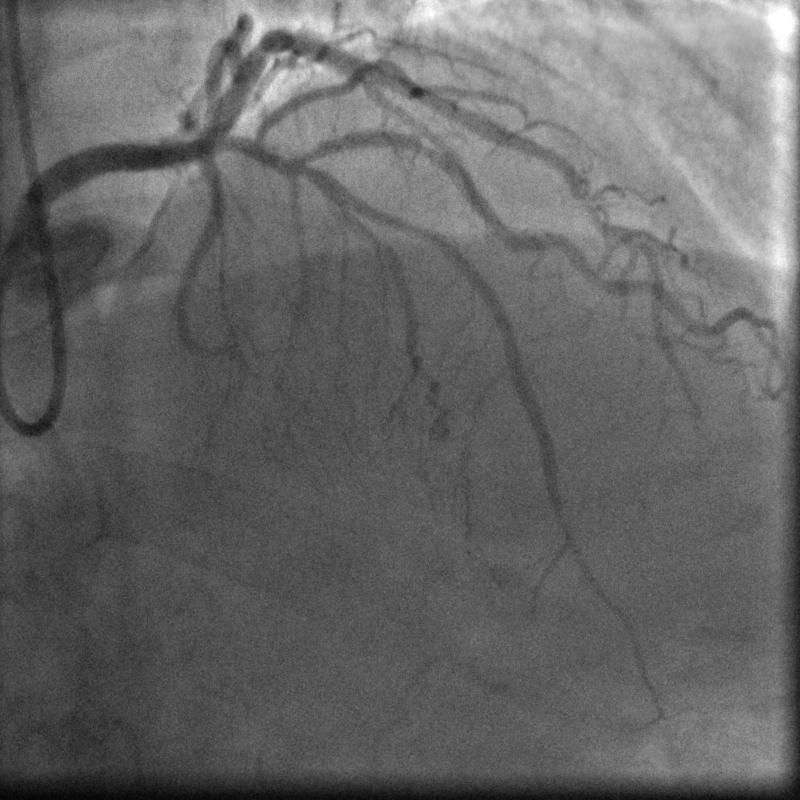Stenosis: (404, 127, 444, 166)
